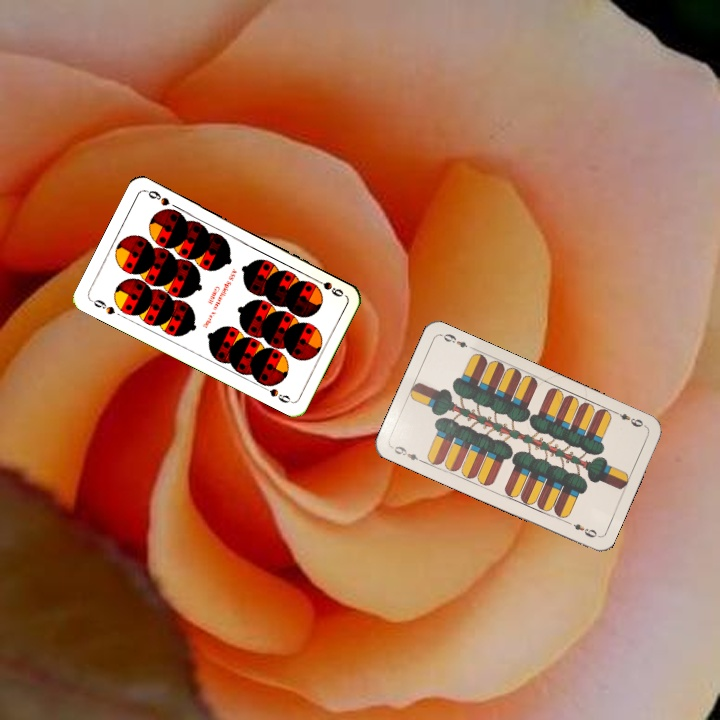E9: (388, 442, 426, 465), (610, 407, 648, 430)
S9: (309, 274, 346, 299), (87, 295, 117, 317)
